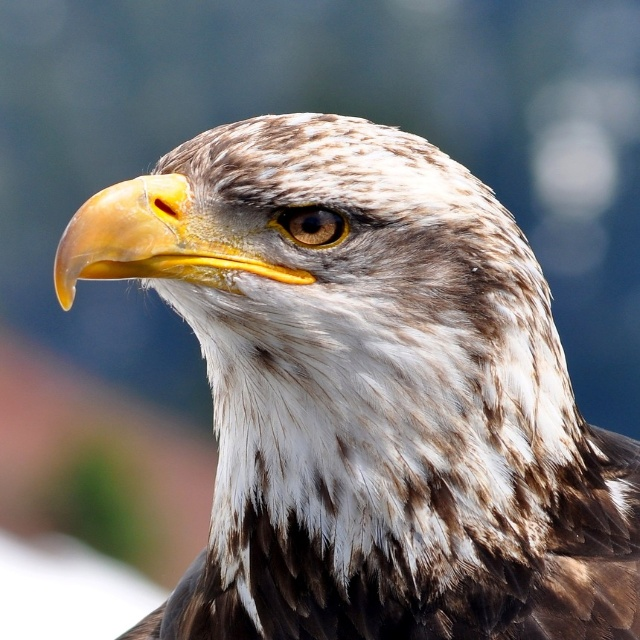Eagle: (51, 112, 640, 640)
